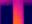Hotspot: (13, 4, 24, 23)
